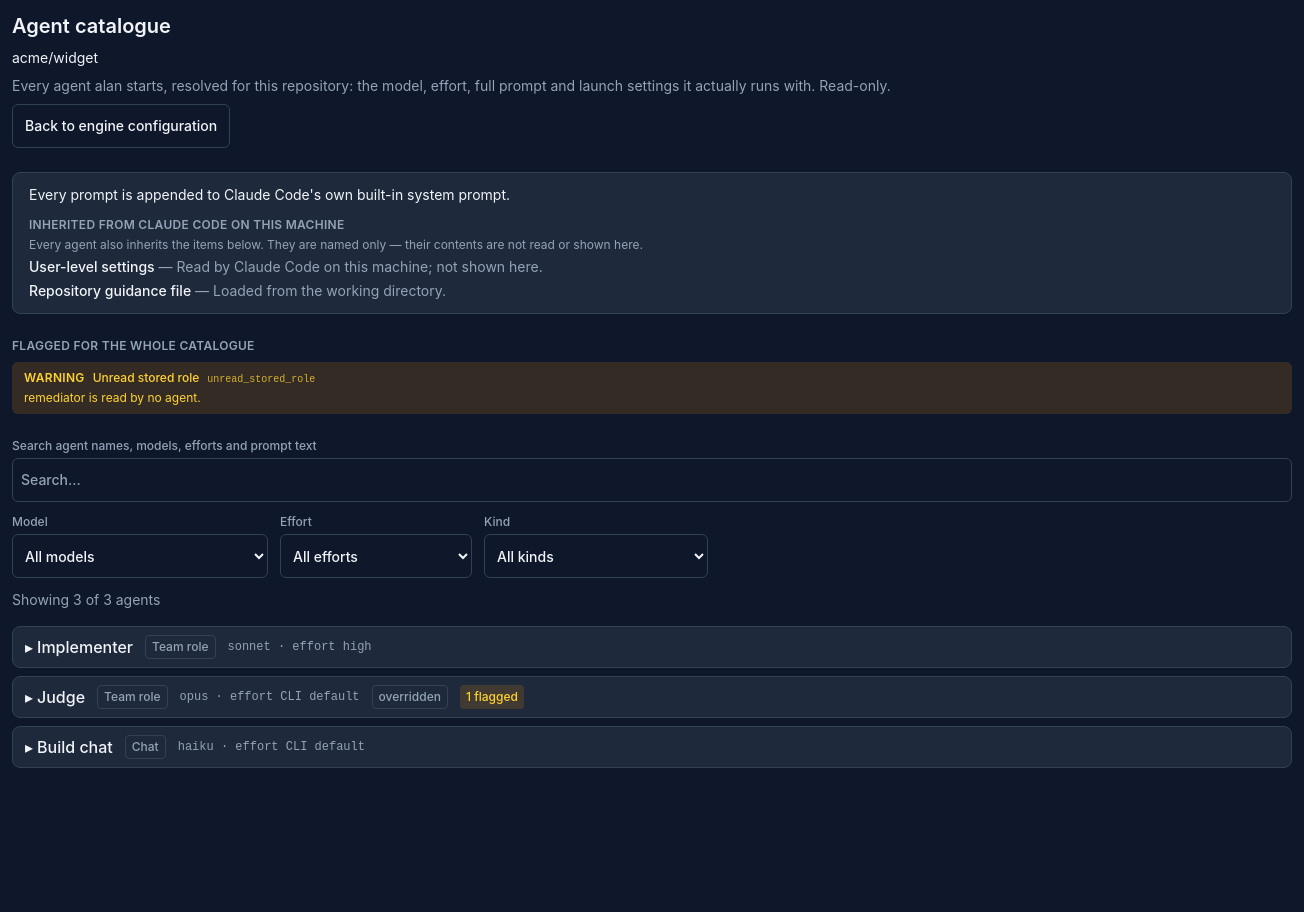
Scenario: RepoAgents — list, search and filters › searches full prompt text, shows per-prompt counts and updates the live count
Expected: the list with test id "repo-agents-list" is shown, [12,626,1292,768]
In the search field with test id "agent-search-input": (652, 480) [12,458,1292,502], type "write"
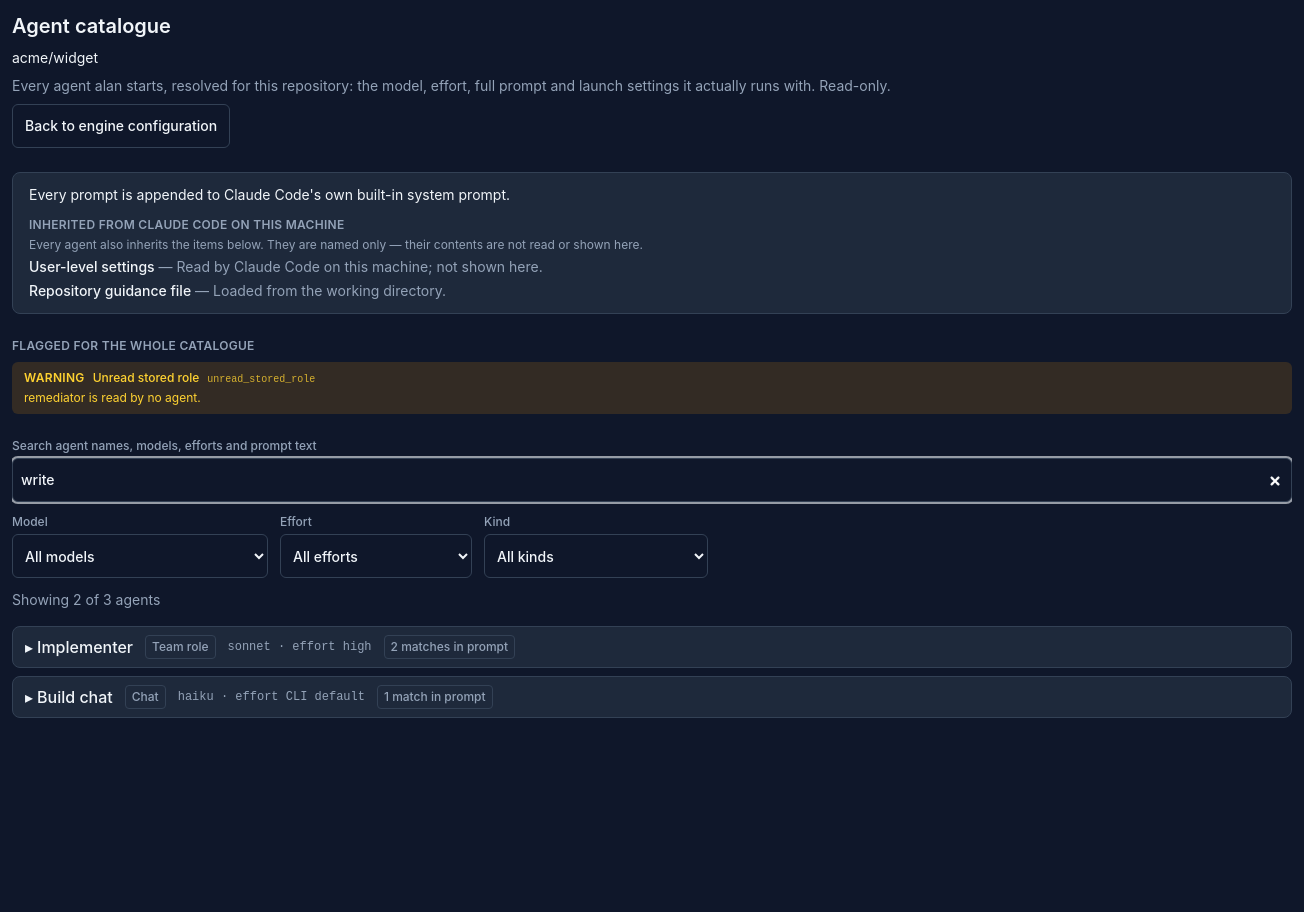
Now the message with test id "agent-search-count" reads "Showing 2 of 3 agents", box [12,591,160,608]
